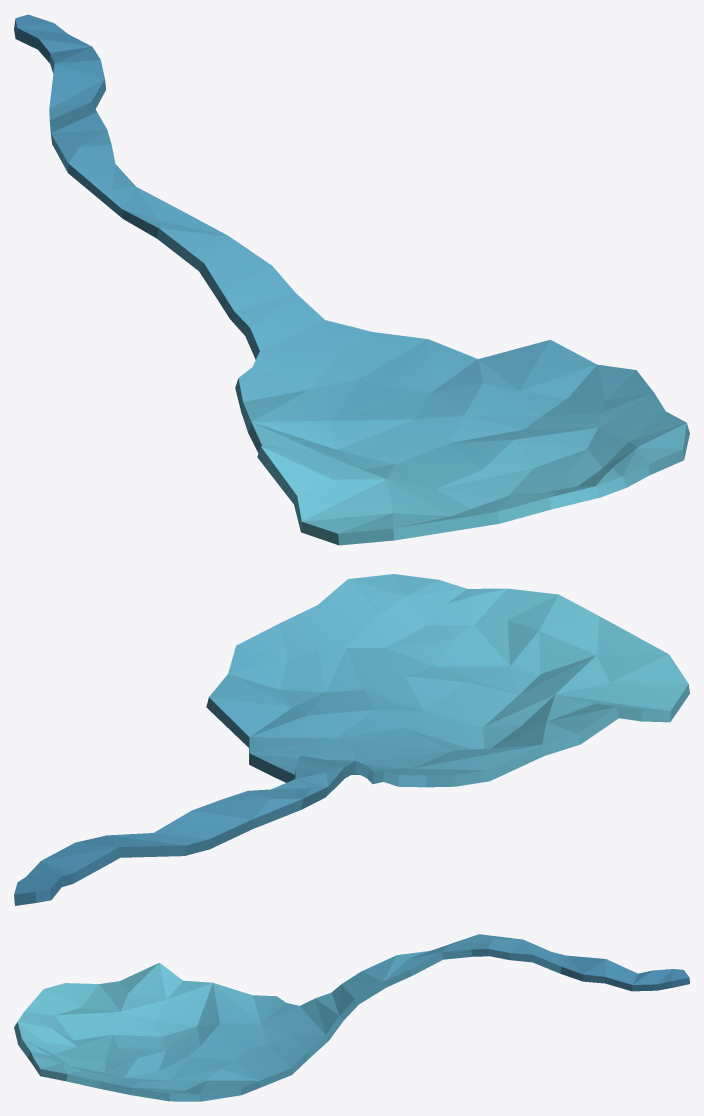
Rendered from water location autumn atmosphere forest.fbx.
3 renders of one model, top to bottom at view 1: azimuth 30°, elevation 25°; view 2: azimuth 150°, elevation 25°; view 3: azimuth 270°, elevation 25°, orthographic. The views are drawn at different scales.
Visible parts, largest first — view 1: water location autumn atmosphere forest; view 2: water location autumn atmosphere forest; view 3: water location autumn atmosphere forest.
Part boxes in pixels (<box>): water location autumn atmosphere forest: <box>14,14,689,545</box>; water location autumn atmosphere forest: <box>14,574,689,905</box>; water location autumn atmosphere forest: <box>14,934,689,1101</box>.
Size of the model in its own units: 1458 by 483 by 3481.
